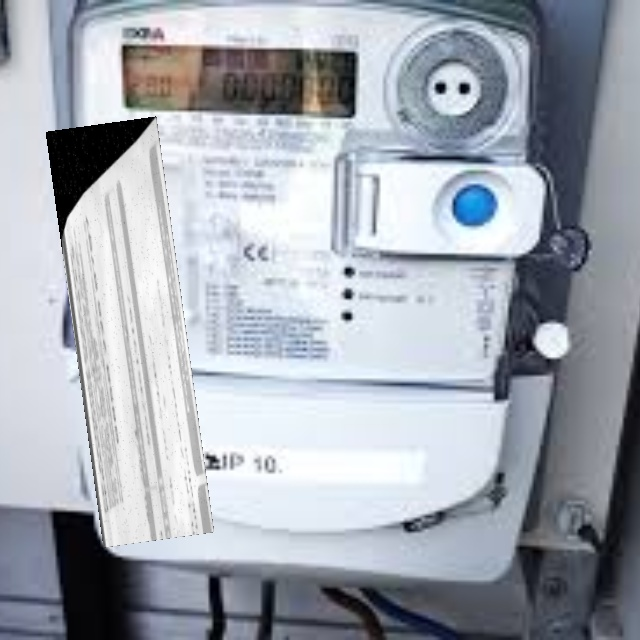electricity-bill: (46, 116, 214, 548)
